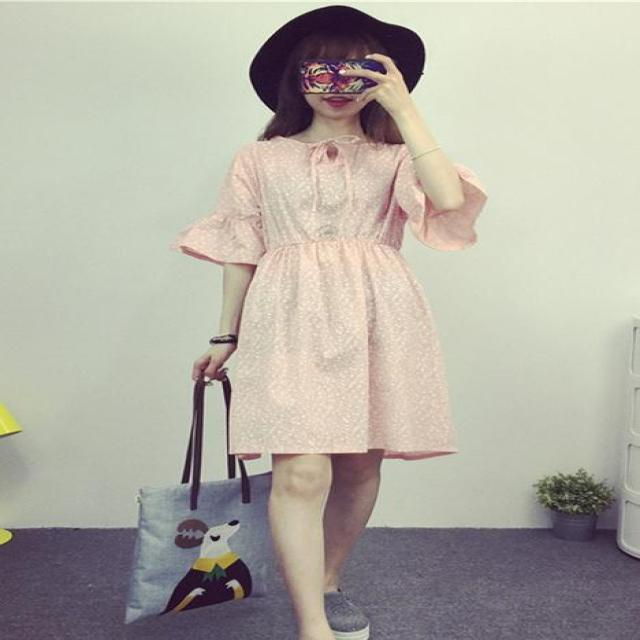short-sleeve-dress: (188, 130, 535, 500)
